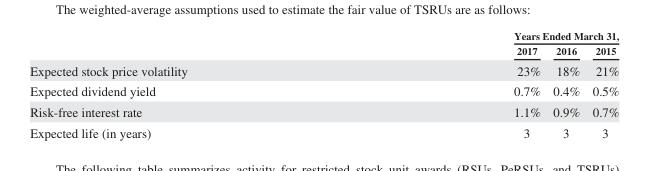table: (29, 28, 618, 139)
table column: (29, 28, 349, 139), (349, 28, 546, 139), (546, 28, 585, 139), (585, 28, 618, 139)
table column header: (29, 28, 618, 59)
table row: (29, 59, 618, 80), (29, 80, 618, 101), (29, 101, 618, 122), (29, 42, 618, 59), (29, 122, 618, 139), (29, 28, 618, 42)
table spanning cell: (349, 28, 618, 42)
